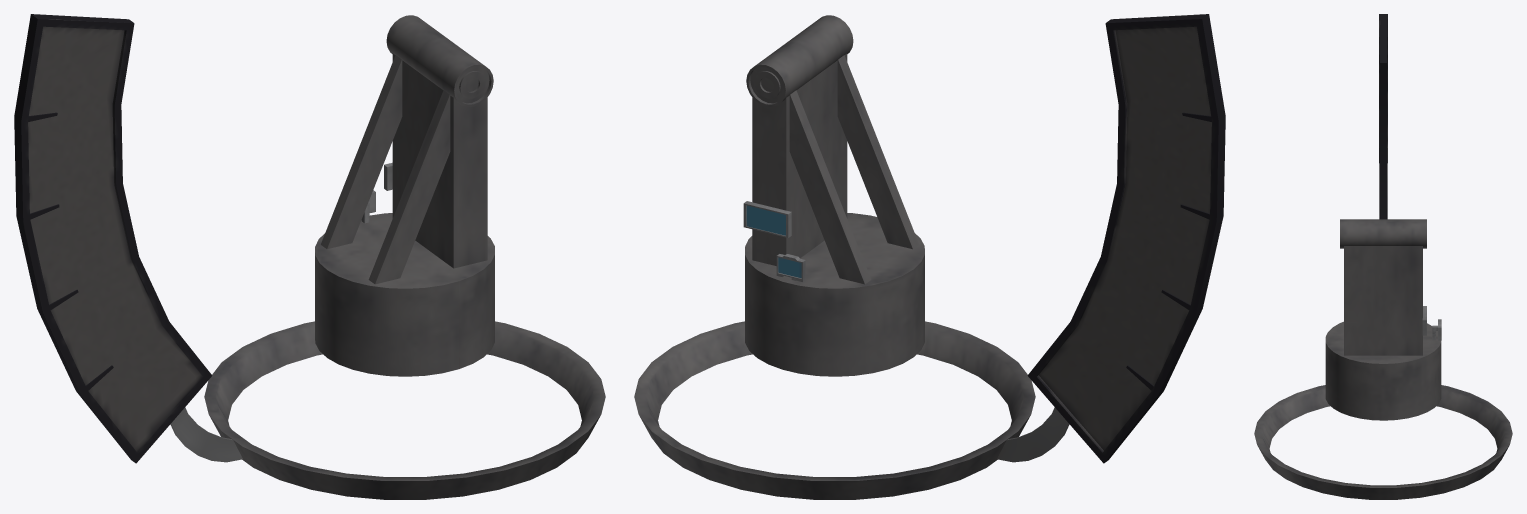
Rendered from ObservatorioTelescopioPieza1.fbx.
3 renders of one model, left to right at view 1: azimuth 30°, elevation 25°; view 2: azimuth 150°, elevation 25°; view 3: azimuth 270°, elevation 25°, orthographic. The views are drawn at different scales.
Visible parts, largest first — view 1: Cube.003, Cube.005; view 2: Cube.003, Cube.005; view 3: Cube.005, Cube.003.
Boxes of the visible parts, x1,y1,x2,y2 form: Cube.003: (14,14,605,499); Cube.005: (315,15,494,376); Cube.003: (634,14,1225,499); Cube.005: (743,15,924,376); Cube.005: (1325,219,1441,420); Cube.003: (1254,14,1512,499).
Size of the model in its own units: 1198 by 1011 by 743.
